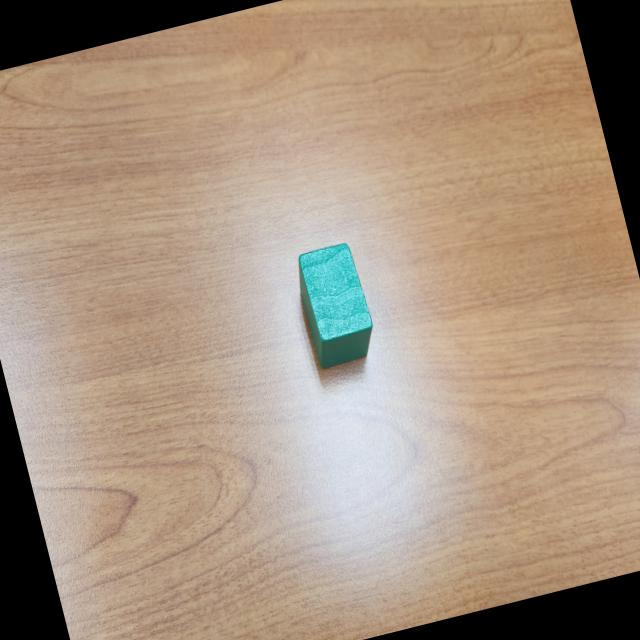green: (290, 240, 380, 370)
